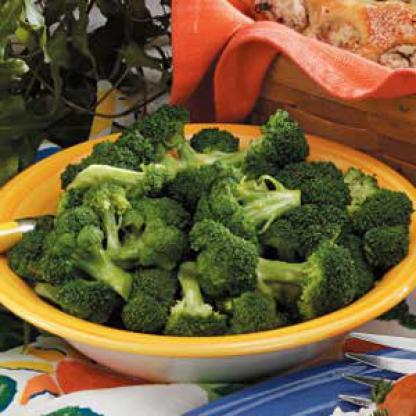broccoli: (0, 102, 415, 336)
